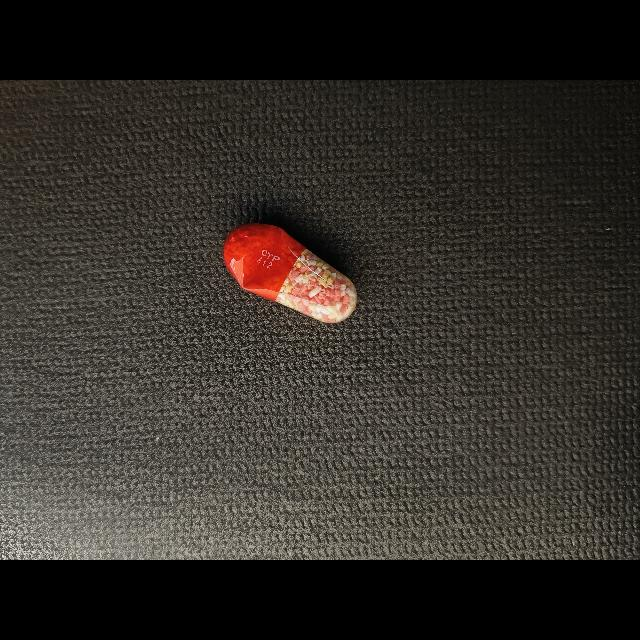Defective Capsule: (223, 223, 357, 323)
